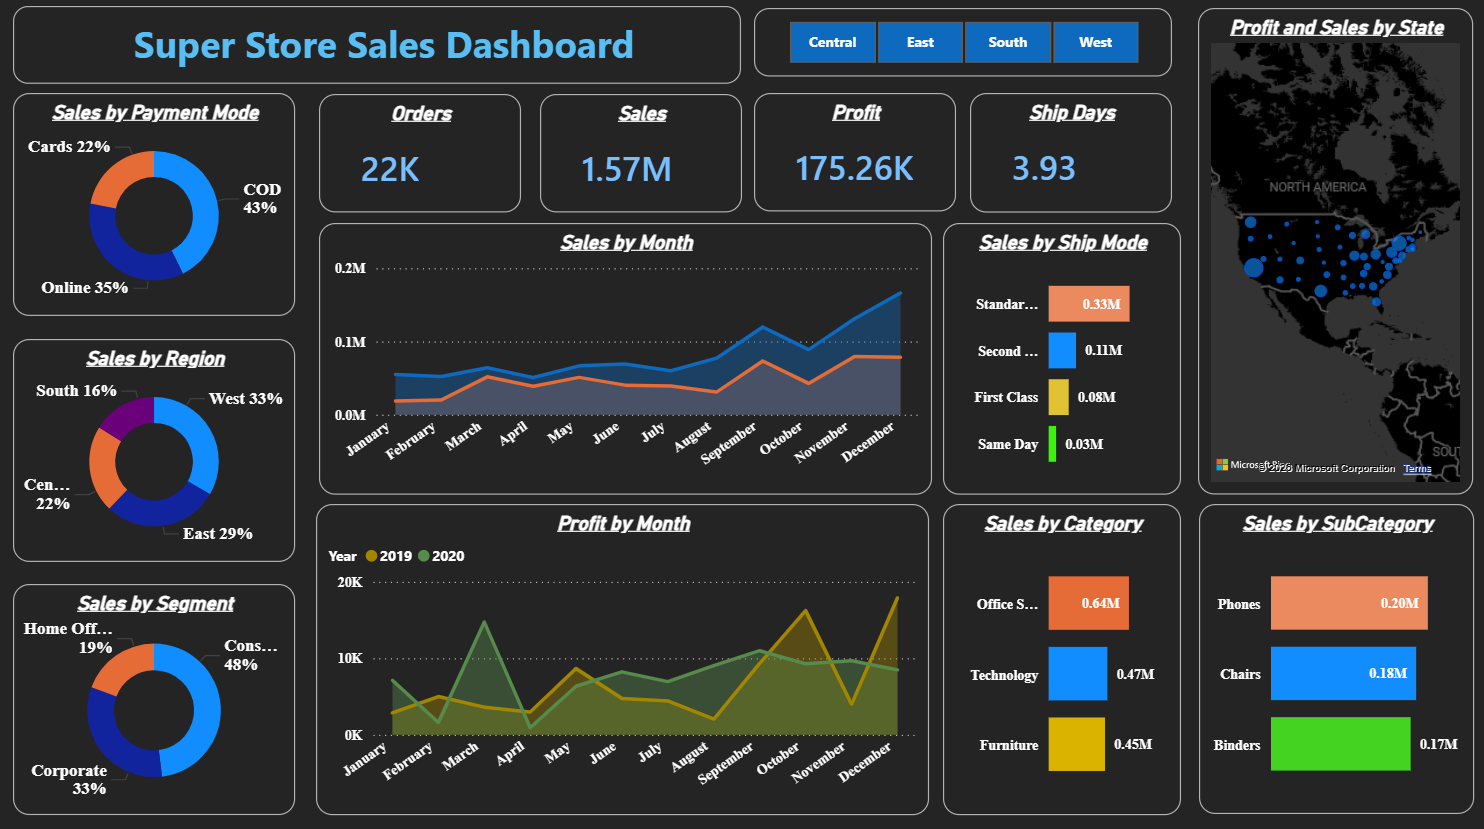

What the dashboard file says about the page in this screenshot:
{"tool":"powerbi","page":{"name":"Dashboard","canvas":[1280,720],"ordinal":0},"visuals":[{"type":"clusteredBarChart","title":"Sales by Category","fields":{"Category":["SuperStore_Sales_Dataset (1).Category"],"Y":["Sum(SuperStore_Sales_Dataset (1).Sales)"]},"box":[814,437.1,204.8,267.8],"z":0},{"type":"clusteredBarChart","title":"Sales by SubCategory","fields":{"Category":["SuperStore_Sales_Dataset (1).Sub-Category"],"Y":["Sum(SuperStore_Sales_Dataset (1).Sales)"]},"box":[1034,437.2,236.9,267.4],"z":1000},{"type":"clusteredBarChart","title":"Sales by Ship Mode","fields":{"Y":["Sum(SuperStore_Sales_Dataset (1).Sales)"],"Category":["SuperStore_Sales_Dataset (1).Ship Mode"]},"box":[814,195.1,204.8,234.1],"z":2000},{"type":"areaChart","title":"Sales by Month","fields":{"Y":["Sum(SuperStore_Sales_Dataset (1).Sales)"],"Category":["SuperStore_Sales_Dataset (1).Order Date.Variation.Date Hierarchy.Month","SuperStore_Sales_Dataset (1).Order Date.Variation.Date Hierarchy.Day"],"Series":["SuperStore_Sales_Dataset (1).Order Date.Variation.Date Hierarchy.Year"]},"box":[276.7,195.1,527.6,234.1],"z":3000},{"type":"areaChart","title":"Profit by Month","fields":{"Category":["SuperStore_Sales_Dataset (1).Order Date.Variation.Date Hierarchy.Month","SuperStore_Sales_Dataset (1).Order Date.Variation.Date Hierarchy.Day"],"Series":["SuperStore_Sales_Dataset (1).Order Date.Variation.Date Hierarchy.Year"],"Y":["Sum(SuperStore_Sales_Dataset (1).Profit)"]},"box":[274,437.1,527.6,267.8],"z":4000},{"type":"map","title":"Profit and Sales by State","fields":{"Category":["SuperStore_Sales_Dataset (1).State"],"Size":["Sum(SuperStore_Sales_Dataset (1).Sales)"]},"box":[1033.9,10.6,236.7,418.5],"z":5000},{"type":"donutChart","title":"Sales by Payment Mode","fields":{"Y":["Sum(SuperStore_Sales_Dataset (1).Sales)"],"Category":["SuperStore_Sales_Dataset (1).Payment Mode"]},"box":[13.3,83.3,243,192.4],"z":7000},{"type":"slicer","fields":{"Values":["SuperStore_Sales_Dataset (1).Region"]},"box":[650.8,10.6,360,58.5],"z":8000},{"type":"textbox","box":[13.3,8.9,626.9,67.4],"z":9000},{"type":"cardVisual","title":"Sales","fields":{"Data":["Sum(SuperStore_Sales_Dataset (1).Sales)"]},"box":[466.4,84.2,173.8,102],"z":10000},{"type":"cardVisual","title":"Ship Days","fields":{"Data":["Avg(SuperStore_Sales_Dataset (1).AvgDelivery)"]},"box":[837,83.3,173.8,102.9],"z":11000},{"type":"cardVisual","title":"Profit","fields":{"Data":["Sum(SuperStore_Sales_Dataset (1).Profit)"]},"box":[650.8,83.3,173.8,102],"z":12000},{"type":"cardVisual","title":"Orders","fields":{"Data":["Sum(SuperStore_Sales_Dataset (1).Quantity)"]},"box":[276.5,84.4,173.9,101.7],"z":13000},{"type":"donutChart","title":"Sales by Segment","fields":{"Category":["SuperStore_Sales_Dataset (1).Segment"],"Y":["Sum(SuperStore_Sales_Dataset (1).Sales)"]},"box":[13.3,506.3,243,198.6],"z":14000},{"type":"donutChart","title":"Sales by Region","fields":{"Y":["Sum(SuperStore_Sales_Dataset (1).Sales)"],"Category":["SuperStore_Sales_Dataset (1).Region"]},"box":[13.3,295.3,243,192.4],"z":14001}]}

Visuals, with their boxes in screenshot pixels (x1, y1, x2, y2), scaled from the page's 1280x720 canvas onto the 1484x829 screenshot:
"Sales by Category" clusteredBarChart: {"left": 944, "top": 503, "right": 1181, "bottom": 812}
"Sales by SubCategory" clusteredBarChart: {"left": 1199, "top": 503, "right": 1473, "bottom": 811}
"Sales by Ship Mode" clusteredBarChart: {"left": 944, "top": 225, "right": 1181, "bottom": 494}
"Sales by Month" areaChart: {"left": 321, "top": 225, "right": 932, "bottom": 494}
"Profit by Month" areaChart: {"left": 318, "top": 503, "right": 929, "bottom": 812}
"Profit and Sales by State" map: {"left": 1199, "top": 12, "right": 1473, "bottom": 494}
"Sales by Payment Mode" donutChart: {"left": 15, "top": 96, "right": 297, "bottom": 317}
slicer - SuperStore_Sales_Dataset (1).Region: {"left": 755, "top": 12, "right": 1172, "bottom": 80}
textbox: {"left": 15, "top": 10, "right": 742, "bottom": 88}
"Sales" cardVisual: {"left": 541, "top": 97, "right": 742, "bottom": 214}
"Ship Days" cardVisual: {"left": 970, "top": 96, "right": 1172, "bottom": 214}
"Profit" cardVisual: {"left": 755, "top": 96, "right": 956, "bottom": 213}
"Orders" cardVisual: {"left": 321, "top": 97, "right": 522, "bottom": 214}
"Sales by Segment" donutChart: {"left": 15, "top": 583, "right": 297, "bottom": 812}
"Sales by Region" donutChart: {"left": 15, "top": 340, "right": 297, "bottom": 562}
